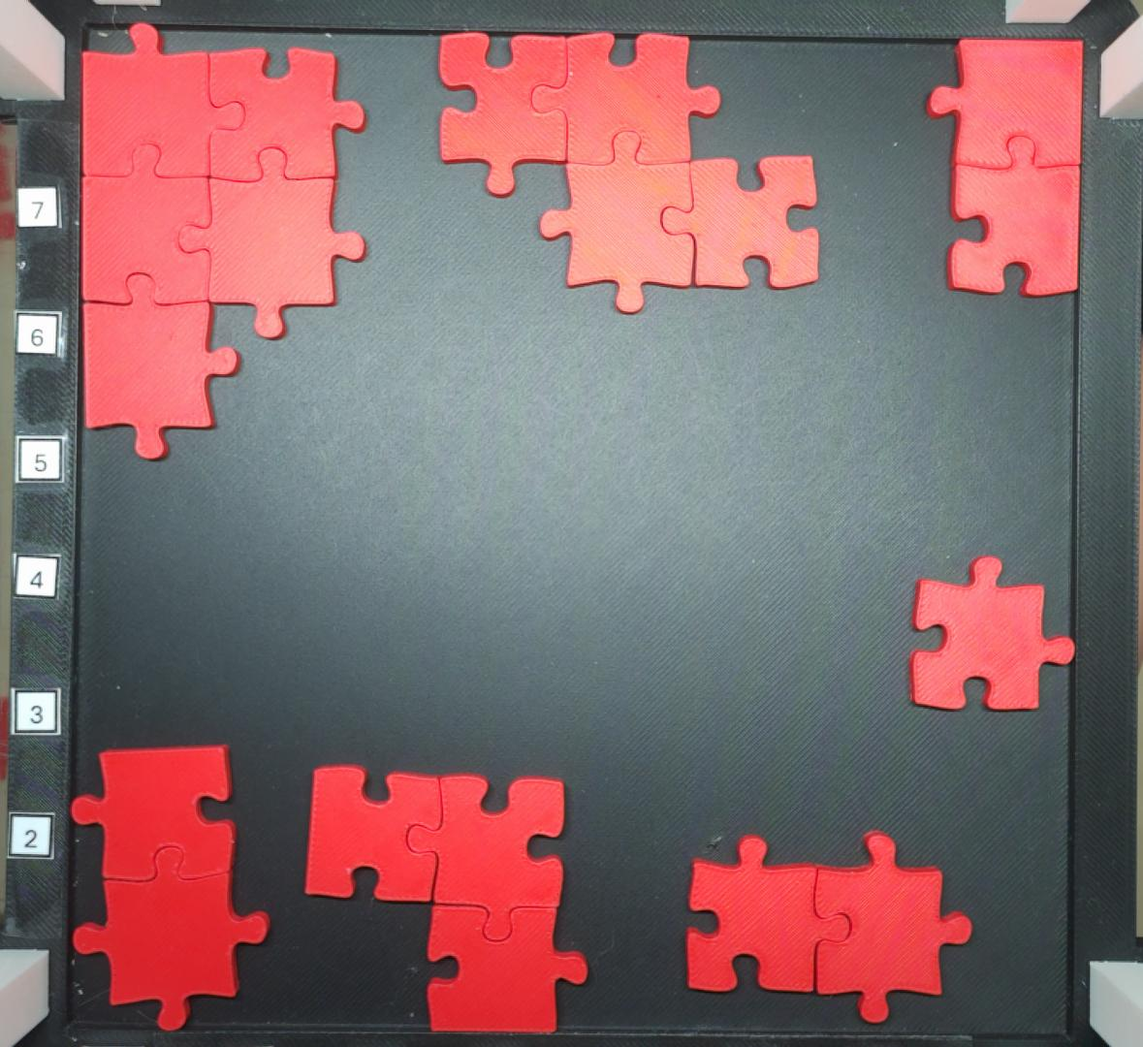p_1: (910, 555, 1075, 712)
p_2: (70, 744, 274, 1033), (682, 826, 972, 1025), (928, 38, 1085, 300)
p_3: (302, 765, 593, 1034)
p_4: (438, 31, 823, 315)
p_m: (77, 20, 370, 464)
